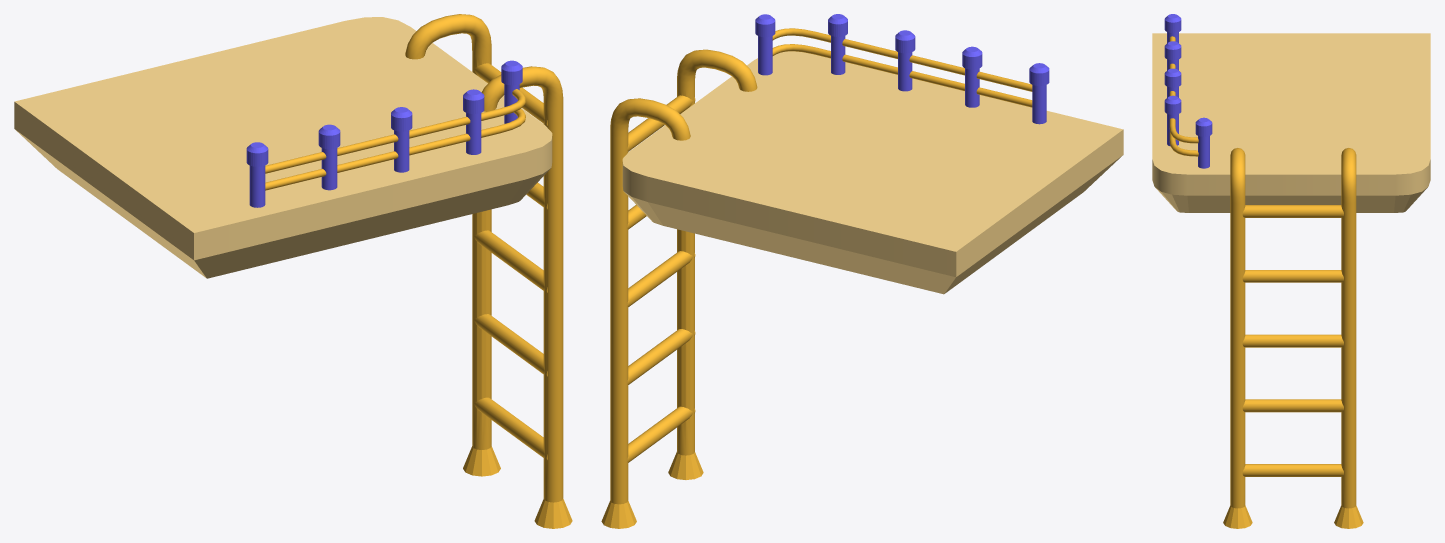
File: 00_ladder.FBX
3 renders of one model, left to right at view 1: azimuth 30°, elevation 25°; view 2: azimuth 150°, elevation 25°; view 3: azimuth 270°, elevation 25°, orthographic. The views are drawn at different scales.
Visible parts, largest first — view 1: Box123, Line042, Line045, Line044, Cylinder290, Cylinder289, Cylinder287, Cylinder288, Cylinder286; view 2: Box123, Line042, Line044, Line045, Cylinder286, Cylinder290, Cylinder289, Cylinder288, Cylinder287; view 3: Box123, Line042, Cylinder286, Cylinder287, Cylinder288, Cylinder289, Cylinder290, Line045.
Boxes of the visible parts, x1=… form: Box123: x1=14, y1=17, x2=552, y2=278; Line042: x1=405, y1=14, x2=572, y2=528; Line045: x1=265, y1=89, x2=525, y2=173; Line044: x1=265, y1=109, x2=525, y2=190; Cylinder290: x1=246, y1=142, x2=268, y2=207; Cylinder289: x1=318, y1=124, x2=340, y2=190; Cylinder287: x1=463, y1=89, x2=484, y2=154; Cylinder288: x1=391, y1=107, x2=412, y2=172; Cylinder286: x1=501, y1=60, x2=522, y2=123; Box123: x1=622, y1=51, x2=1123, y2=294; Line042: x1=601, y1=49, x2=757, y2=528; Line044: x1=772, y1=44, x2=1032, y2=107; Line045: x1=772, y1=28, x2=1032, y2=91; Cylinder286: x1=755, y1=14, x2=775, y2=75; Cylinder290: x1=1029, y1=63, x2=1049, y2=124; Cylinder289: x1=962, y1=46, x2=982, y2=107; Cylinder288: x1=895, y1=30, x2=915, y2=91; Cylinder287: x1=828, y1=14, x2=847, y2=74; Box123: x1=1152, y1=33, x2=1430, y2=212; Line042: x1=1223, y1=148, x2=1363, y2=528; Cylinder286: x1=1195, y1=117, x2=1212, y2=168; Cylinder287: x1=1164, y1=95, x2=1181, y2=146; Cylinder288: x1=1164, y1=68, x2=1181, y2=97; Cylinder289: x1=1164, y1=41, x2=1181, y2=70; Cylinder290: x1=1164, y1=14, x2=1181, y2=43; Line045: x1=1169, y1=36, x2=1198, y2=143.
Size of the model in its own units: 128 by 138 by 92.11.
